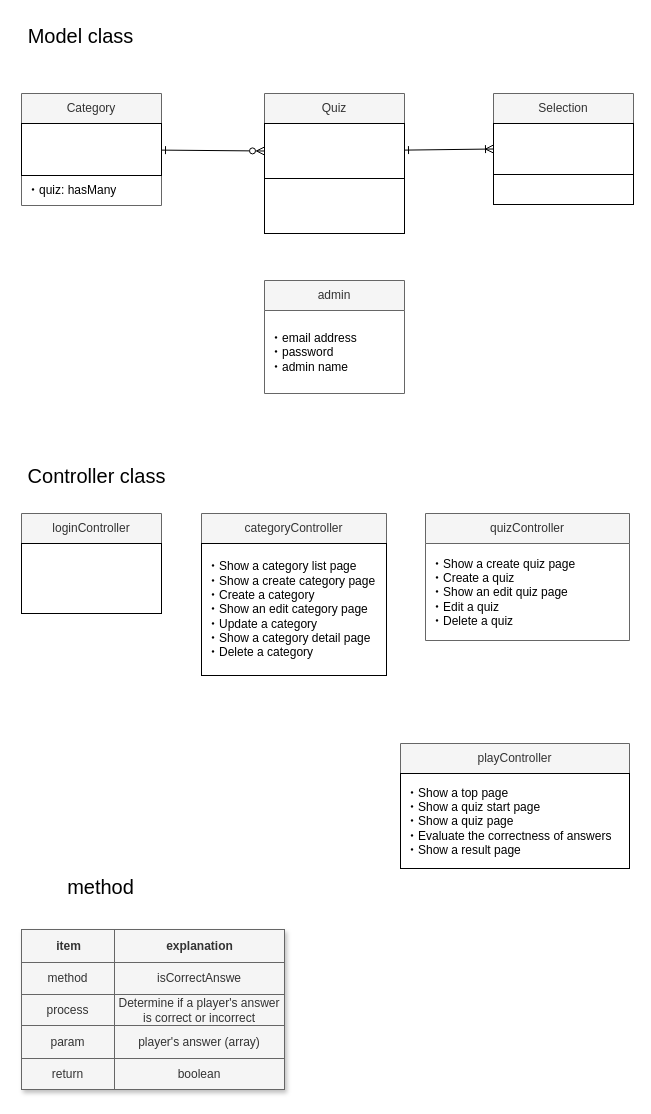
This 651x1114 diagram has some shape labels left out. The centre of each missing label's shape, as x and y in pixels:
"・category name ・explanation" goes at (91,149).
"・correct or incorrect ・explanation" goes at (334,150).
"・Login process ・Logout process ・Show a login page" goes at (91,578).
"・question ・explanation of answer" goes at (563,148).
"・quiz: belongsTo" goes at (563,189).
"・selection: hasMany ・category: belongsTo" goes at (334,206).
